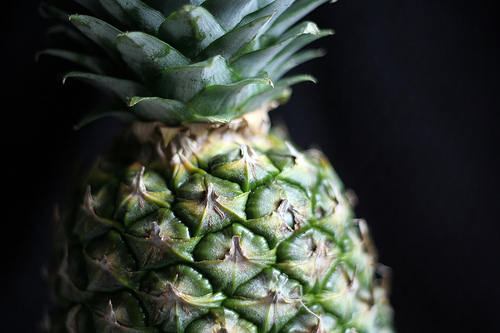pineapple: (25, 0, 401, 332)
